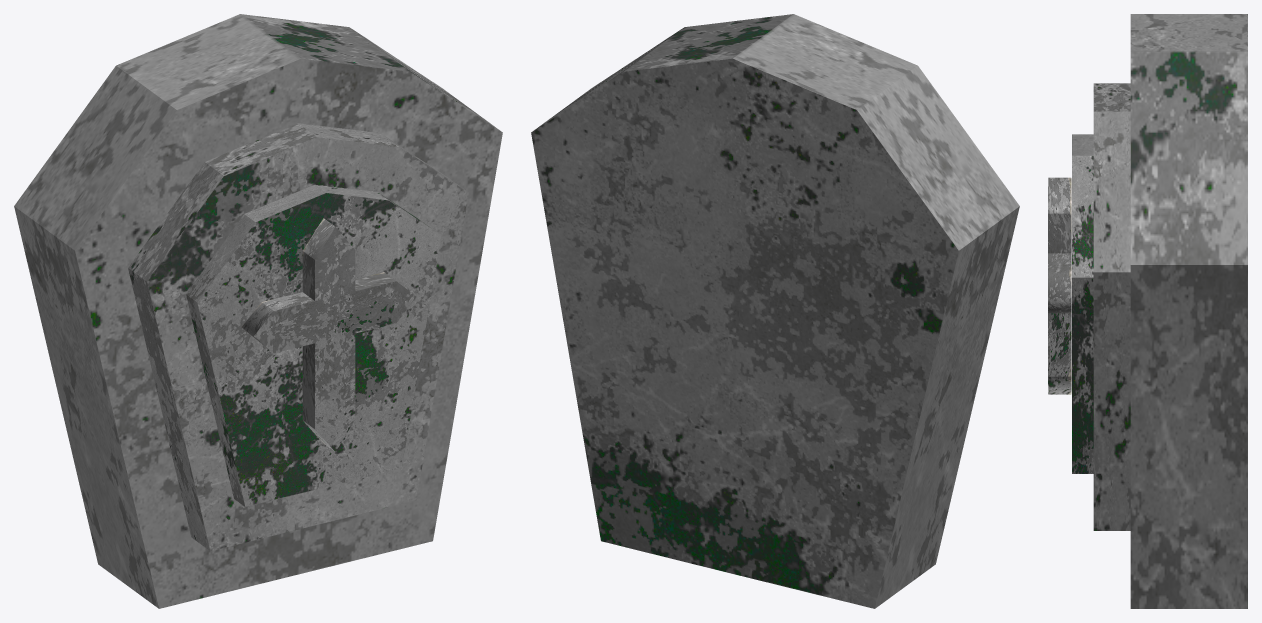
Rendered from shield_0d097d04.glb.
3 renders of one model, left to right at view 1: azimuth 30°, elevation 25°; view 2: azimuth 150°, elevation 25°; view 3: azimuth 270°, elevation 25°, orthographic. The views are drawn at different scales.
Visible parts, largest first — view 1: Object_2; view 2: Object_2; view 3: Object_2.
Boxes of the visible parts, x1,y1,x2,y2 form: Object_2: [14, 14, 502, 608]; Object_2: [531, 14, 1019, 608]; Object_2: [1048, 14, 1247, 608].
Size of the model in its own units: 0.6805 by 0.7838 by 0.2862.
Materials: 1 (1 with a texture image).
